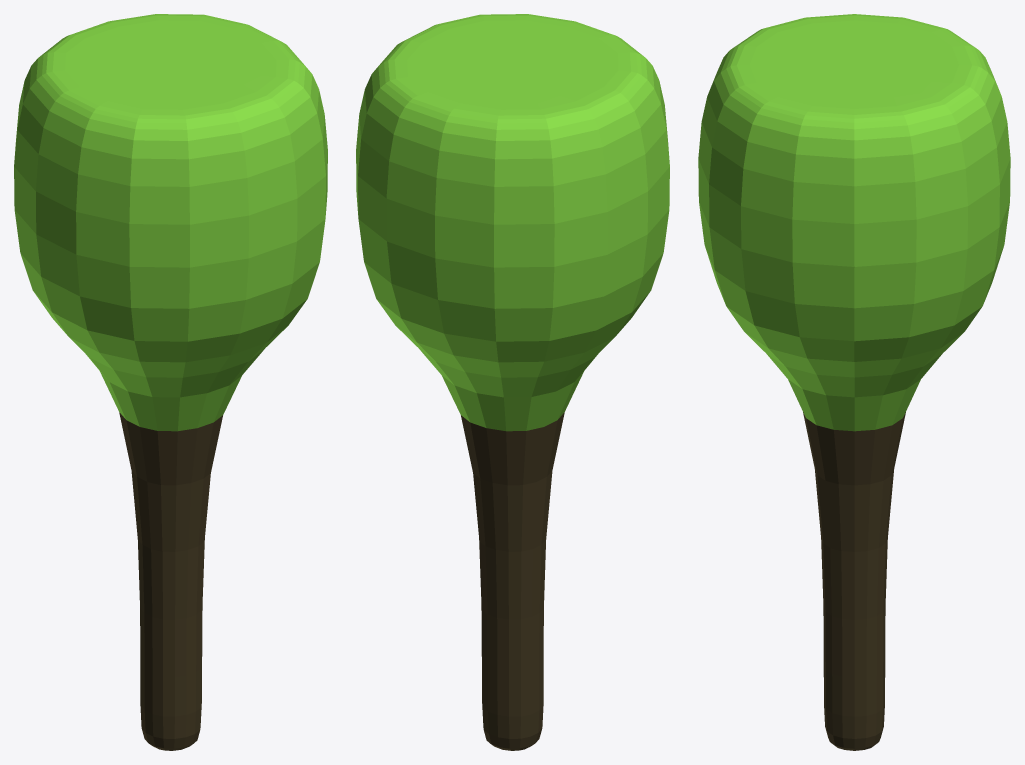
The model's file is tree_2.glb.
3 views of the same model, side by side, from view 1: azimuth 30°, elevation 25°; view 2: azimuth 150°, elevation 25°; view 3: azimuth 270°, elevation 25° (orthographic).
Parts seen in each view (by area): view 1: Cube; view 2: Cube; view 3: Cube.
Boxes of the visible parts, x1,y1,x2,y2 form: Cube: (14, 14, 327, 750); Cube: (356, 14, 669, 750); Cube: (698, 14, 1010, 750).
Bounding box in the file's own units: 9.32 × 22.41 × 9.32.
